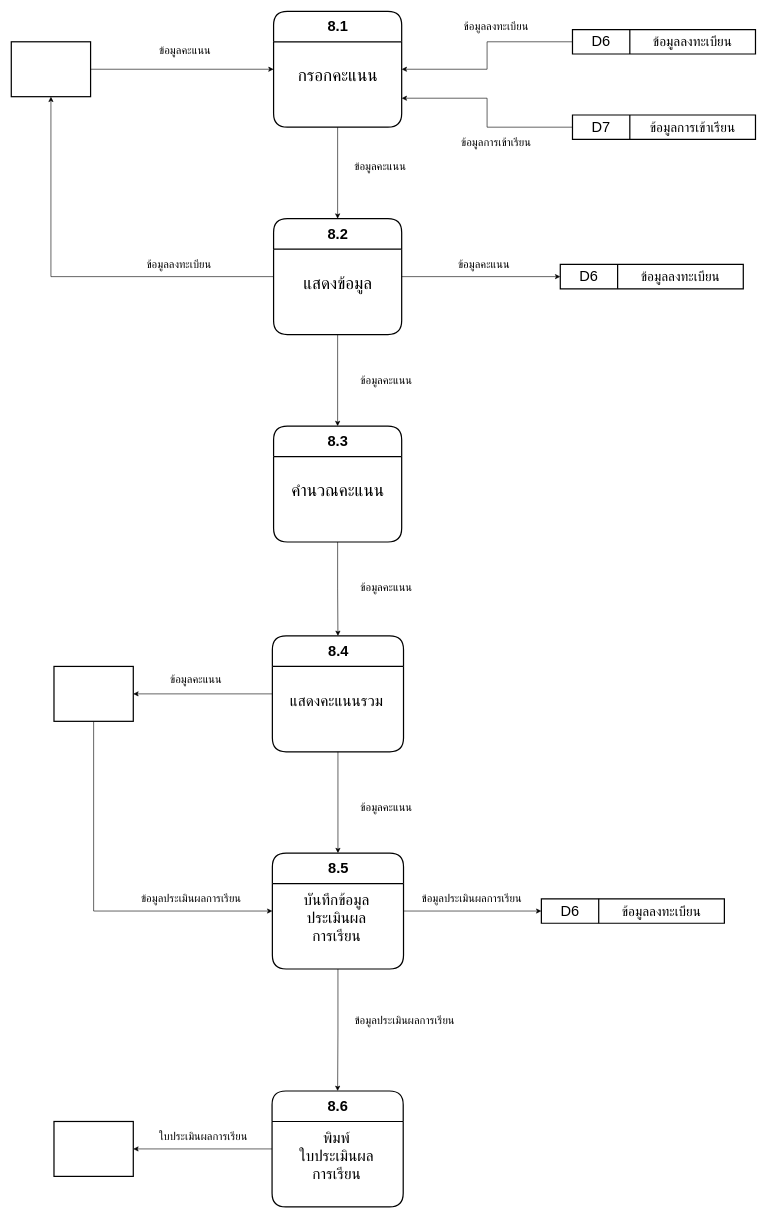
The diagram is 766 pixels wide and 1218 high, and some of its shapes have lost their labels. Here are the shapes that lost their labels. From the top down, the centre of each, then its label:
(x=50, y=69): อาจารย์
(x=93, y=694): พนักงาน
(x=93, y=1149): นักเรียน
